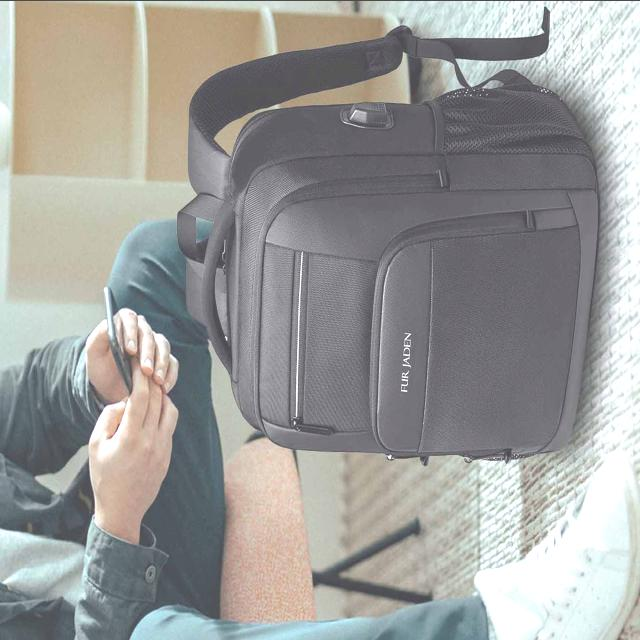backpack: (177, 8, 601, 466)
